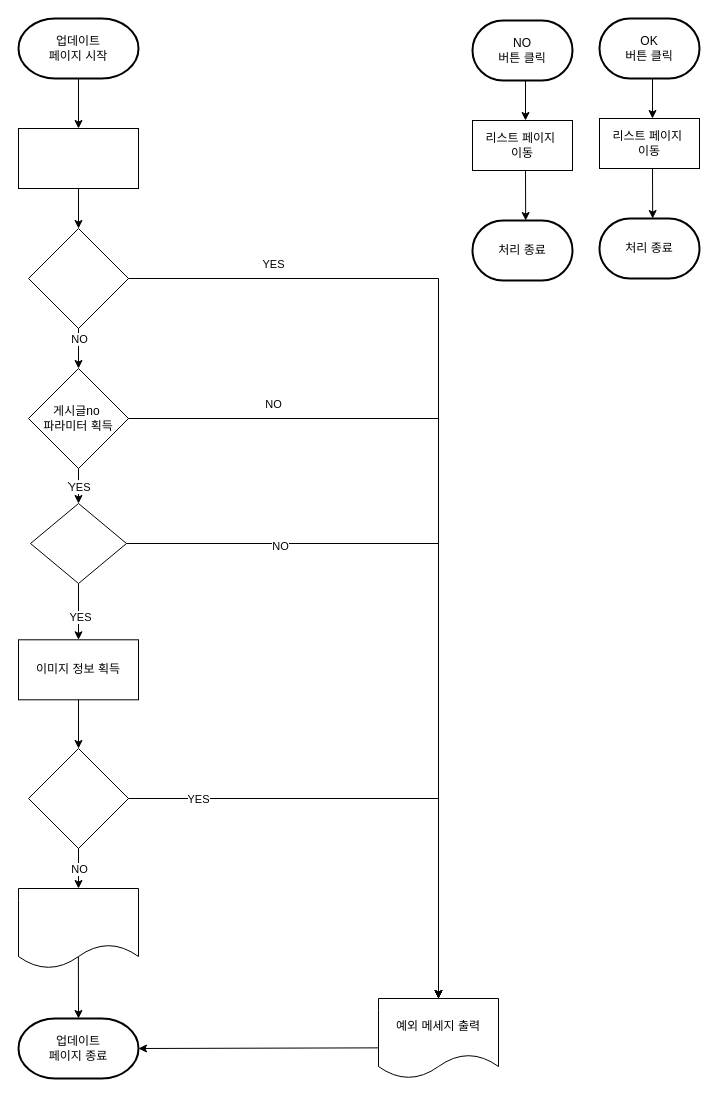
The diagram is 717 pixels wide and 1096 high, and some of its shapes have lost their labels. The centre of each missing label's shape, as x and y in pixels:
"DB 접속" belongs at point 78,158.
"DB 접속 예외 발생" belongs at point 78,278.
"게시글 정보 획득" belongs at point 78,543.
"수정 처리 예외발생" belongs at point 78,798.
"화면 출력" belongs at point 78,928.
